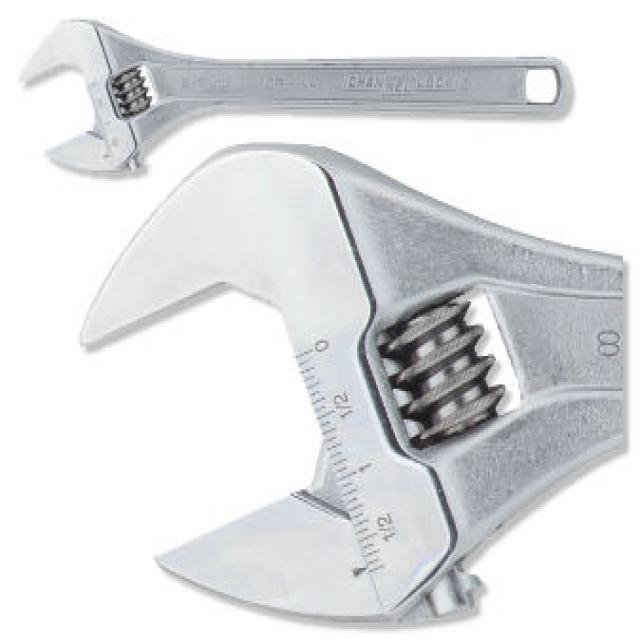wrench: (75, 136, 640, 634), (19, 11, 578, 180)
